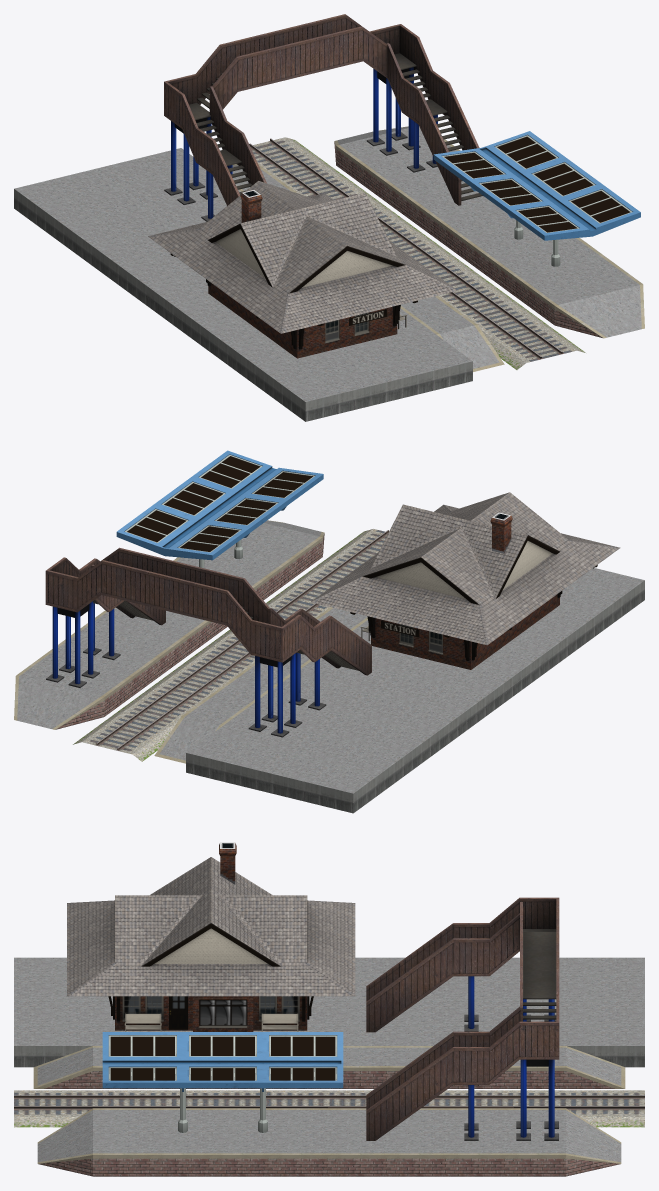
The model's file is Station5.fbx.
3 views of the same model, one above another, from view 1: azimuth 30°, elevation 25°; view 2: azimuth 150°, elevation 25°; view 3: azimuth 270°, elevation 25° (orthographic). The views are drawn at different scales.
Parts seen in each view (by area): view 1: U3DMesh; view 2: U3DMesh; view 3: U3DMesh.
Part boxes in pixels (x1,y1,x2,y2): U3DMesh: (14,14,644,421); U3DMesh: (14,450,644,813); U3DMesh: (14,842,644,1176).
Size of the model in its own units: 23.86 by 9.23 by 32.
